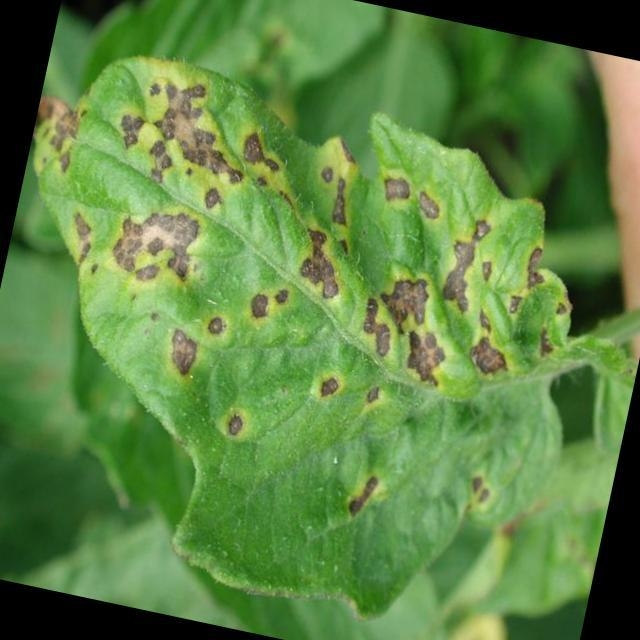Tomato leaf bacterial spot: (1, 41, 640, 566)
